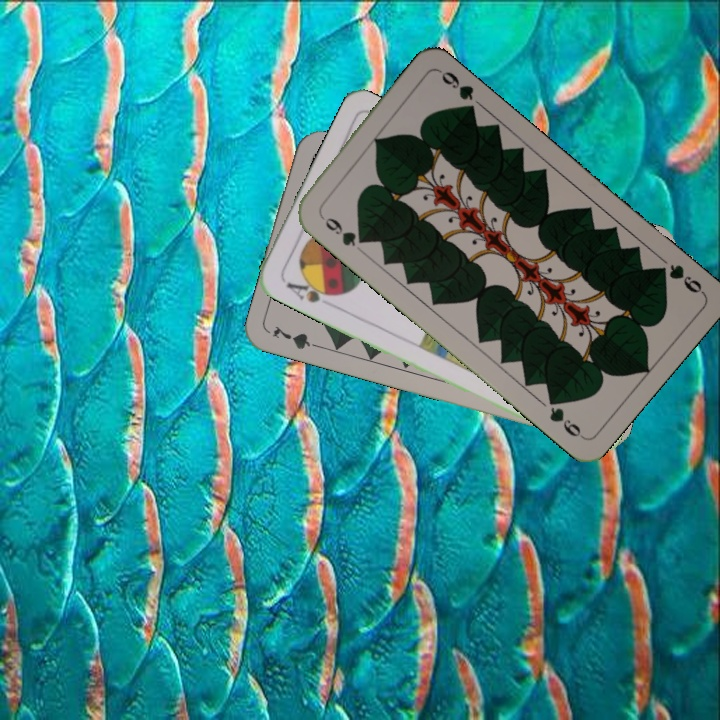G7: (268, 321, 326, 352)
G9: (315, 209, 369, 249), (650, 260, 707, 296)
SA: (282, 274, 339, 306)
